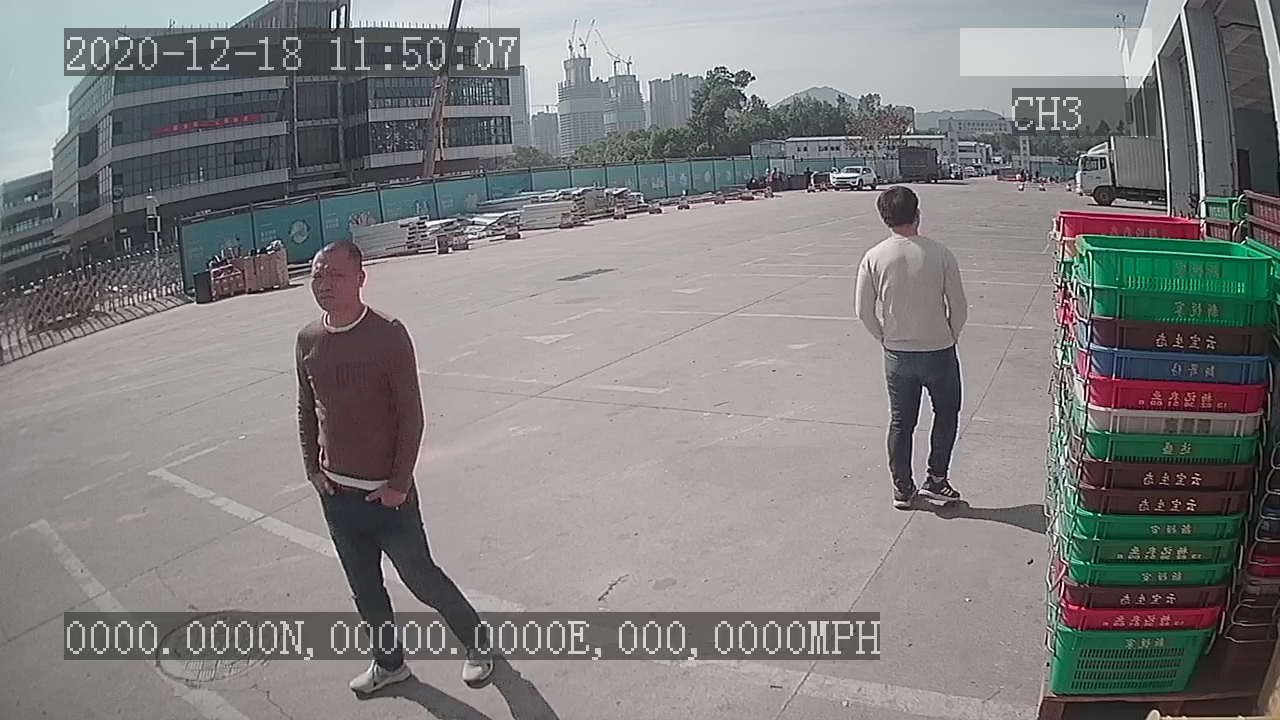person: (847, 181, 972, 513)
